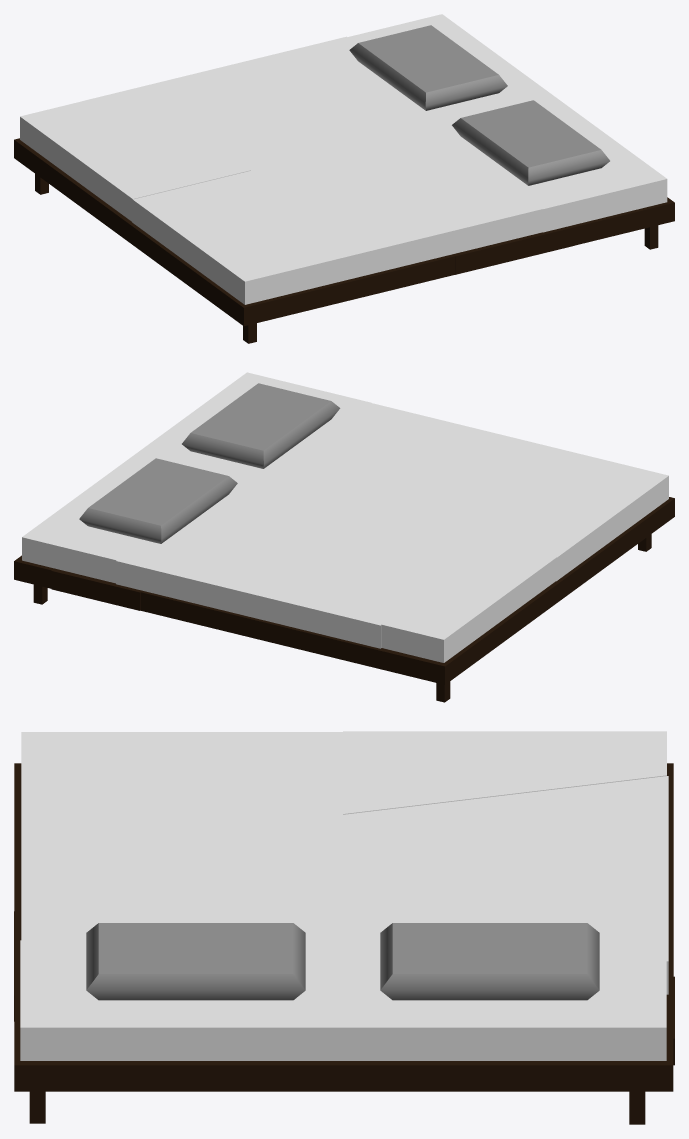
Rendered from Bed and Pillows 1.FBX.
The picture shows the model from 3 angles, top to bottom: view 1: azimuth 30°, elevation 25°; view 2: azimuth 150°, elevation 25°; view 3: azimuth 270°, elevation 25°; orthographic projection. The views are drawn at different scales.
Parts seen in each view (by area): view 1: Mattress 2, Mattress 6, Mattress 5, Mattress 1, Mattress 4, Pillow 2, Pillow 1, Mattress 3, Bed 1, Bed 8, Bed 3, Bed 2 (+1 smaller); view 2: Mattress 2, Mattress 6, Mattress 5, Mattress 1, Bed 8, Pillow 1, Pillow 2, Mattress 3, Mattress 4, Bed 1, Bed 6, Bed 7 (+1 smaller); view 3: Mattress 2, Mattress 6, Mattress 5, Mattress 3, Mattress 4, Mattress 1, Pillow 1, Pillow 2, Bed 4, Bed 5, Bed 8, Bed 2 (+1 smaller).
Part boxes in pixels (x1,y1,x2,y2): Mattress 2: (82, 36, 455, 169); Mattress 6: (132, 171, 417, 304); Mattress 5: (251, 133, 542, 262); Mattress 1: (20, 101, 250, 221); Mattress 4: (443, 105, 667, 232); Pillow 2: (349, 25, 507, 110); Pillow 1: (452, 100, 609, 185); Mattress 3: (347, 14, 565, 121); Bed 1: (156, 242, 338, 343); Bed 8: (14, 138, 159, 262); Bed 3: (453, 225, 574, 274); Bed 2: (337, 254, 454, 303); Mattress 2: (116, 472, 437, 648); Mattress 6: (439, 433, 668, 581); Mattress 5: (259, 403, 495, 529); Mattress 1: (381, 528, 556, 662); Bed 8: (225, 561, 587, 702); Pillow 1: (182, 383, 340, 468); Pillow 2: (79, 458, 237, 543); Mattress 3: (22, 446, 242, 583); Mattress 4: (147, 372, 371, 481); Bed 1: (583, 497, 674, 580); Bed 6: (51, 568, 142, 610); Bed 7: (138, 590, 228, 631); Mattress 2: (307, 776, 668, 994); Mattress 6: (21, 732, 344, 853); Mattress 5: (21, 814, 344, 949); Mattress 3: (308, 951, 666, 1060); Mattress 4: (20, 940, 348, 1060); Mattress 1: (343, 731, 666, 814); Pillow 1: (86, 923, 305, 1000); Pillow 2: (380, 923, 599, 1000); Bed 4: (14, 992, 343, 1123); Bed 5: (340, 1035, 673, 1124); Bed 8: (667, 763, 673, 916); Bed 2: (14, 829, 21, 913).
Bounding box in the file's own units: 426 × 83.32 × 394.
